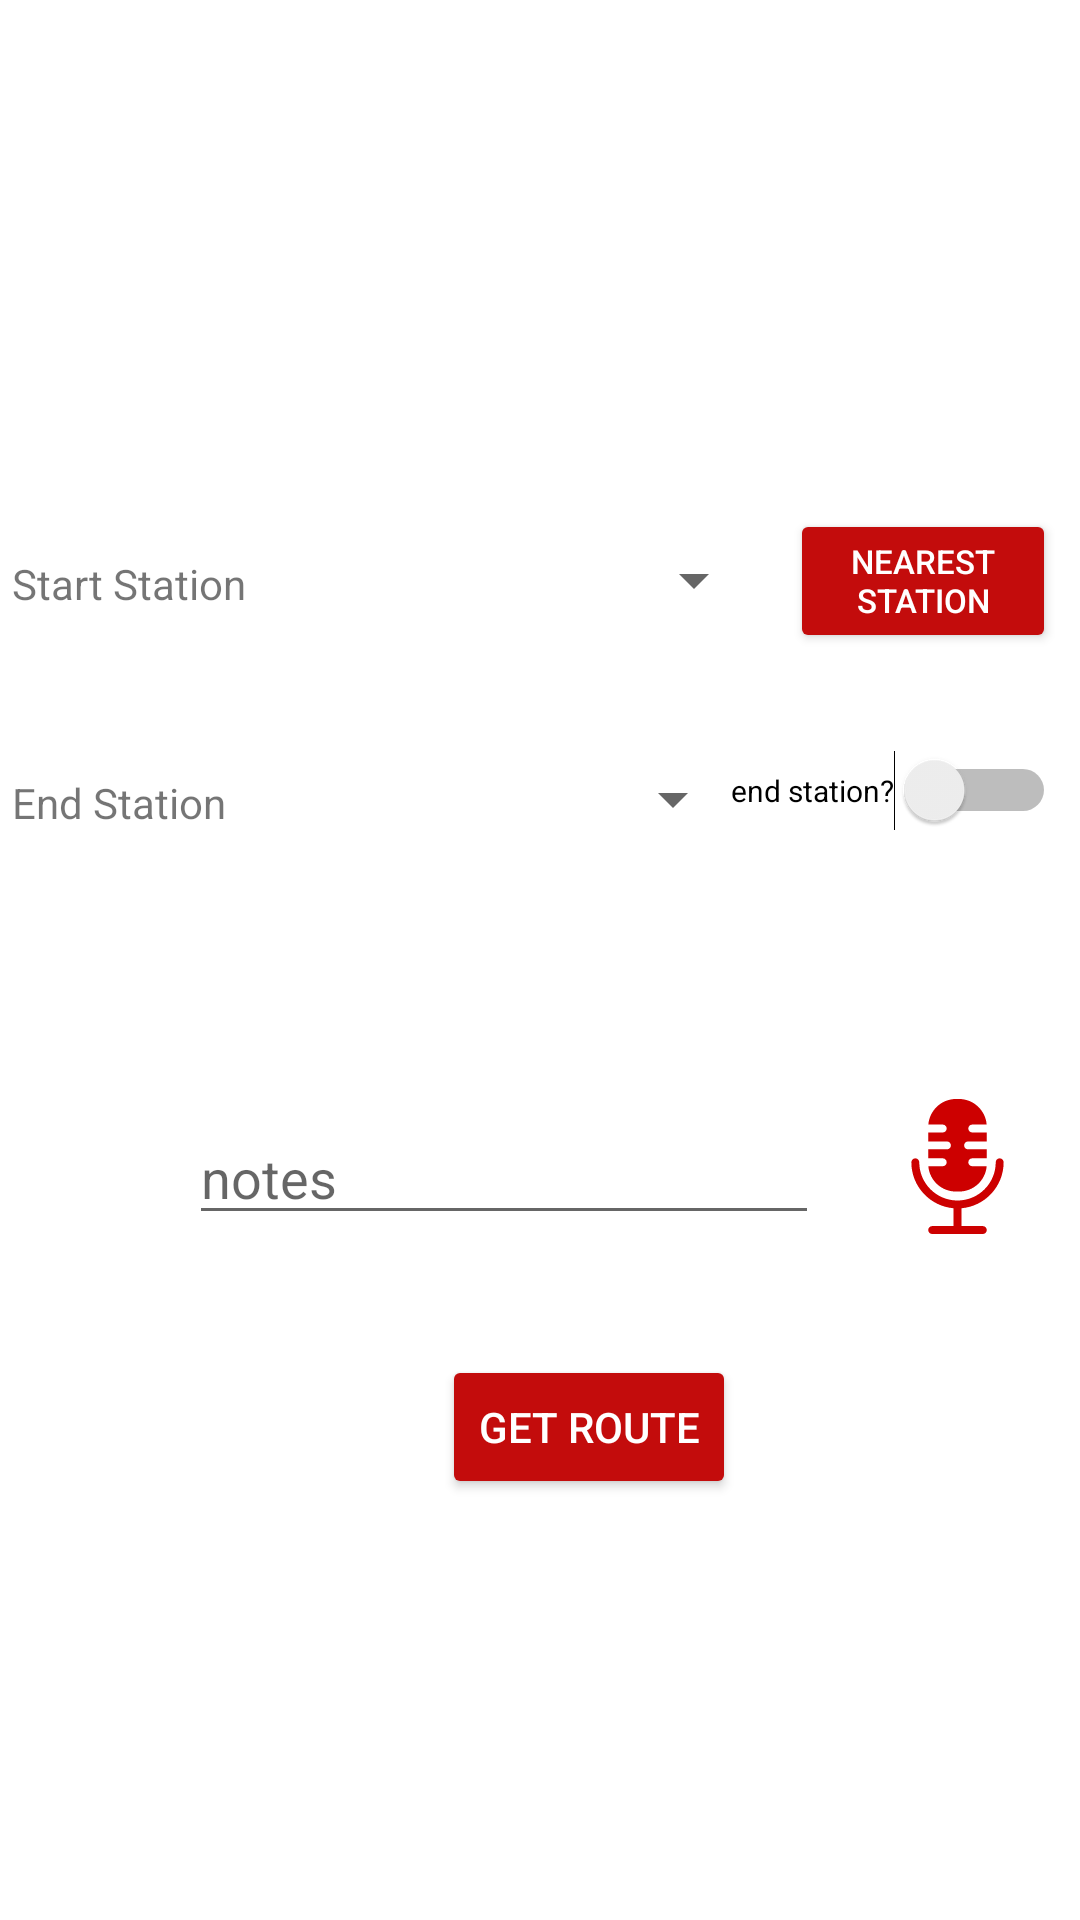

Icons on this 1080 × 1920 Android screen, each with the point to tap as [x,y]:
microphone: [957,1166]
